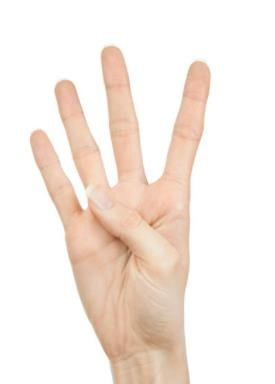right: (25, 42, 212, 344)
